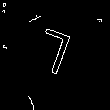L_S: (32, 26, 78, 84)
